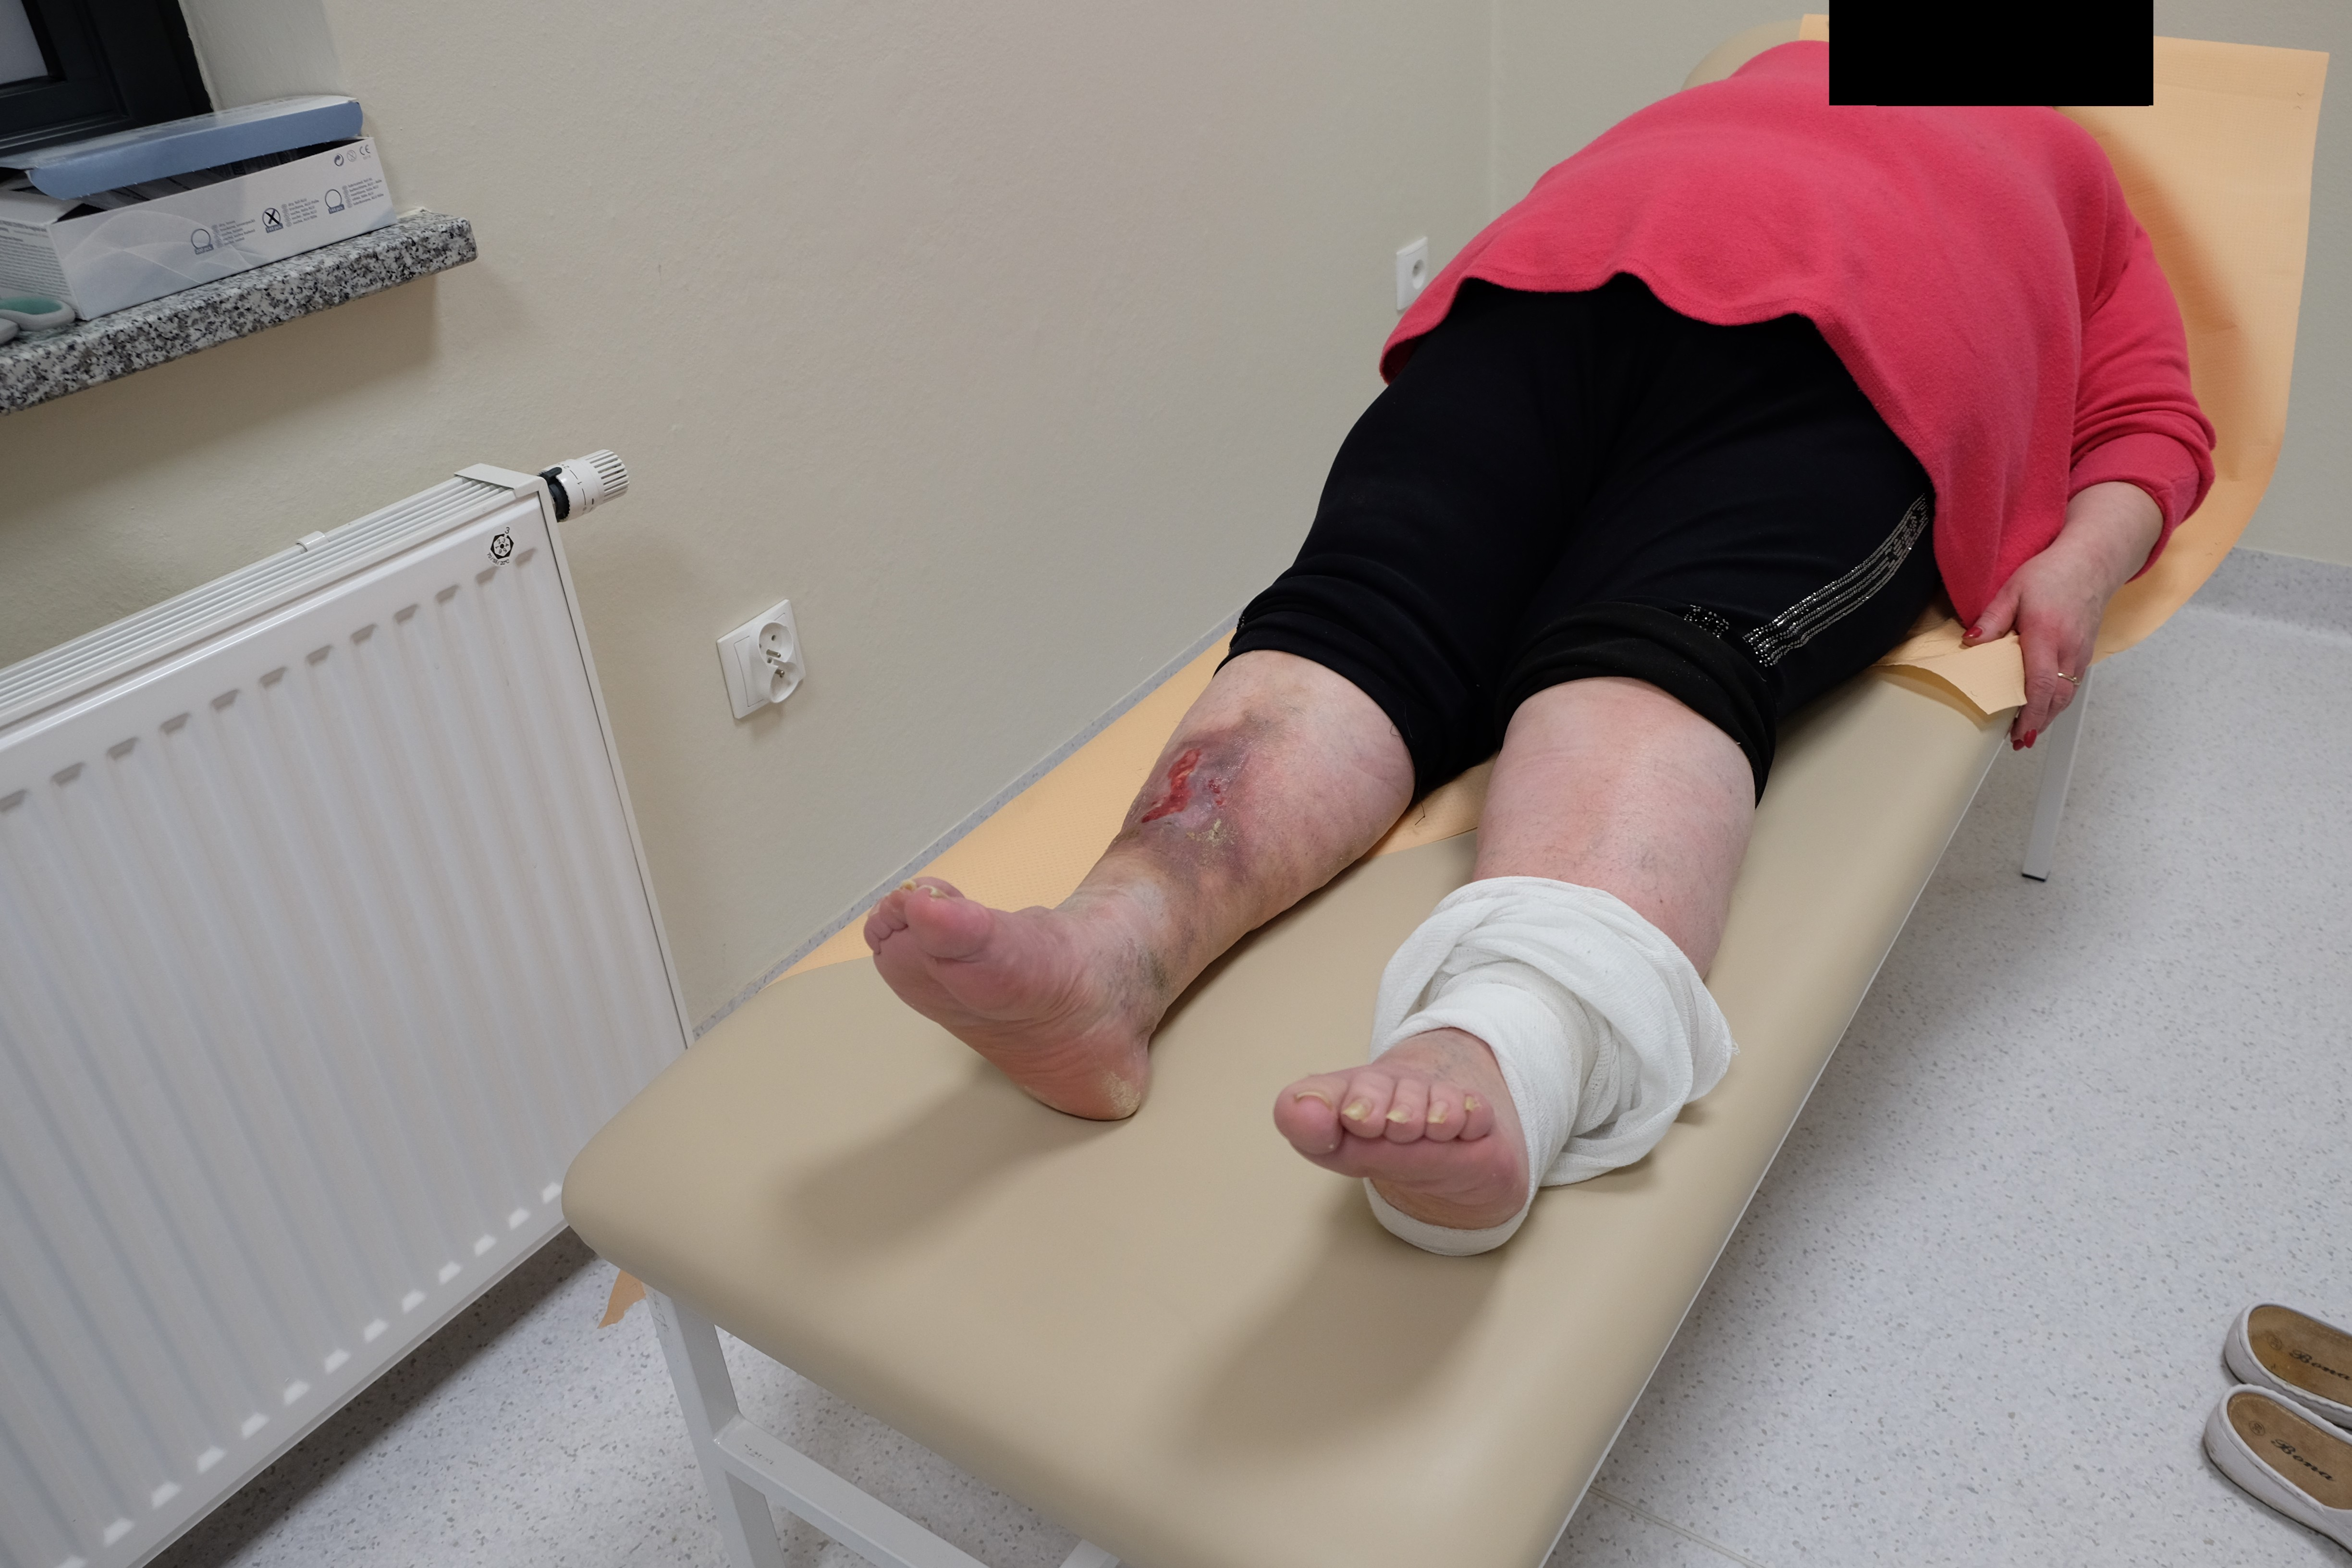wound: (1129, 740, 1228, 824)
